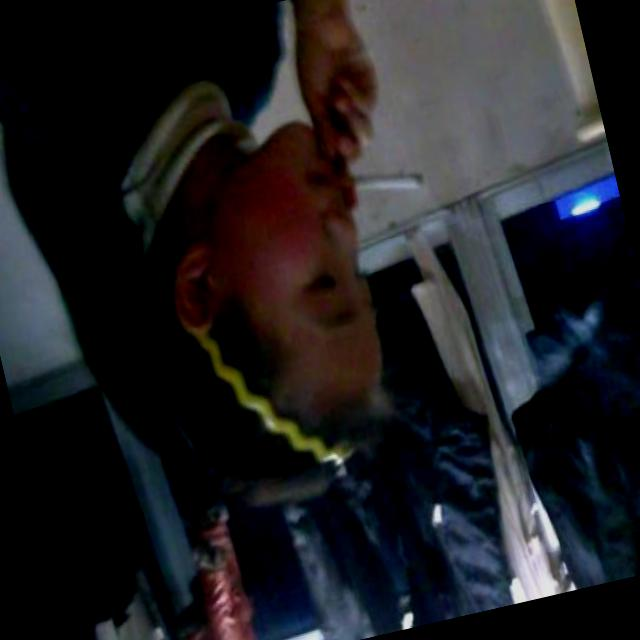cigarette: (354, 162, 428, 205)
